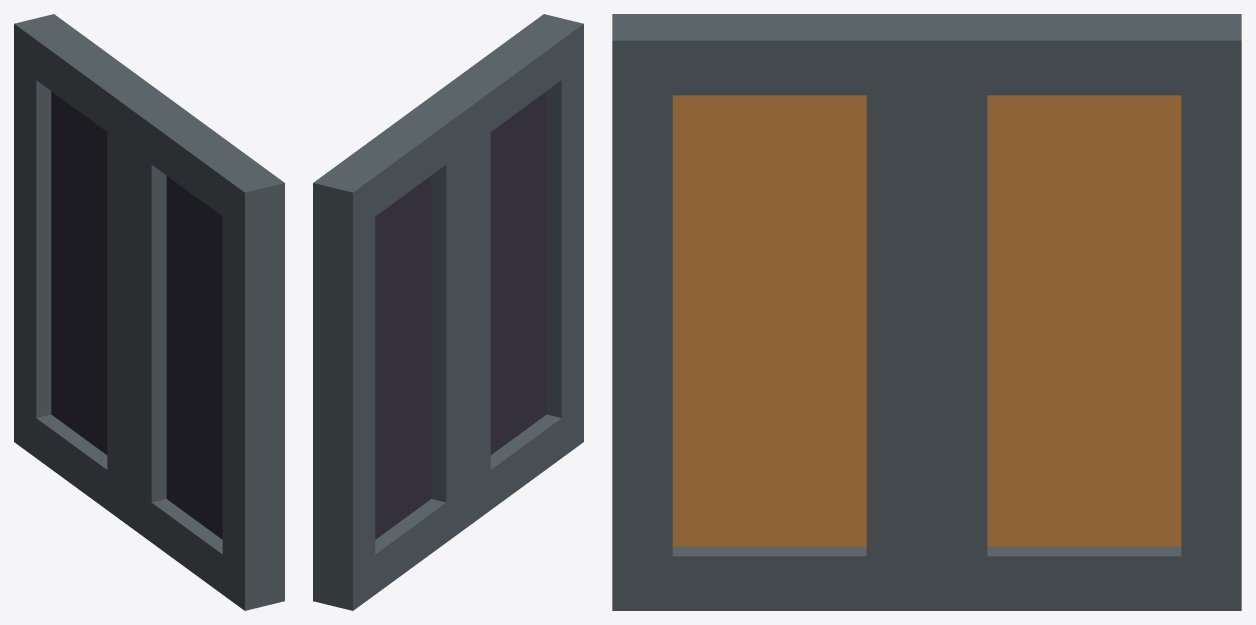
Rendered from SM_window.fbx.
3 views of the same model, side by side, from view 1: azimuth 30°, elevation 25°; view 2: azimuth 150°, elevation 25°; view 3: azimuth 270°, elevation 25° (orthographic). The views are drawn at different scales.
Visible parts, largest first — view 1: Windows; view 2: Windows; view 3: Windows.
Part boxes in pixels (x1=…): Windows: x1=14, y1=14, x2=284, y2=610; Windows: x1=313, y1=14, x2=583, y2=610; Windows: x1=612, y1=14, x2=1241, y2=610.
Size of the model in its own units: 40 by 400 by 400.
